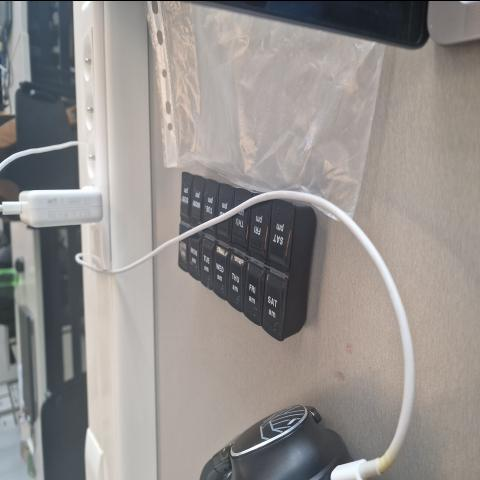PillBox: (166, 136, 334, 352)
